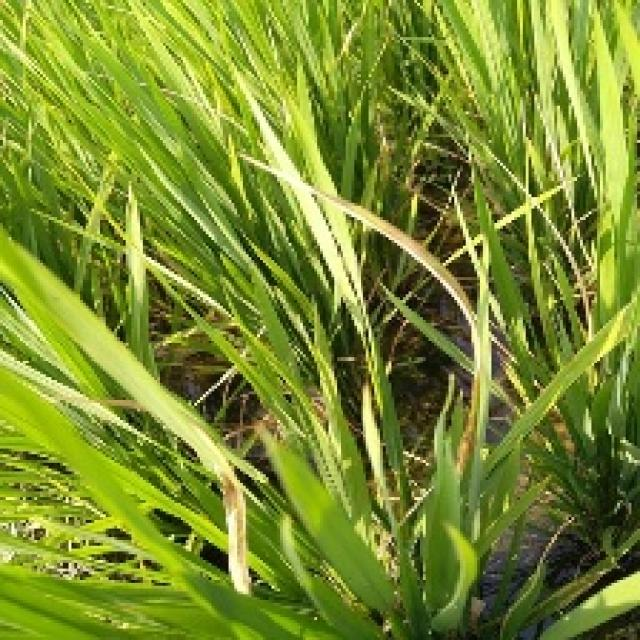Unhealthy: (242, 154, 475, 336), (188, 420, 251, 599), (453, 376, 480, 480)
